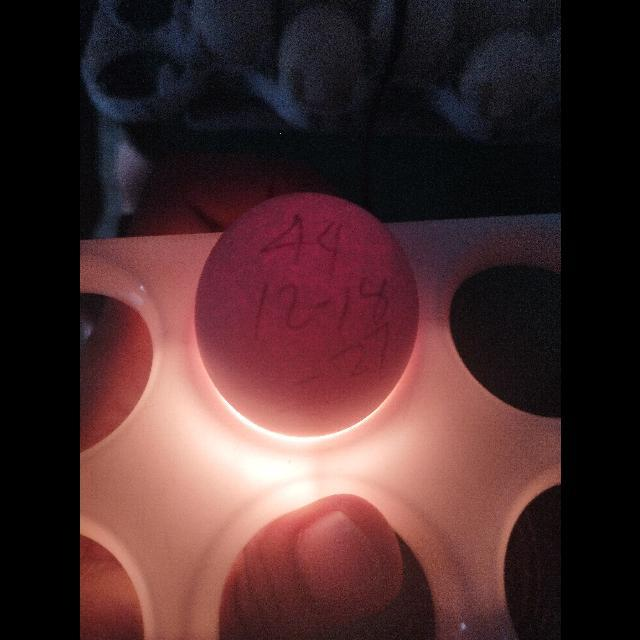Infertile: (190, 186, 426, 446)
